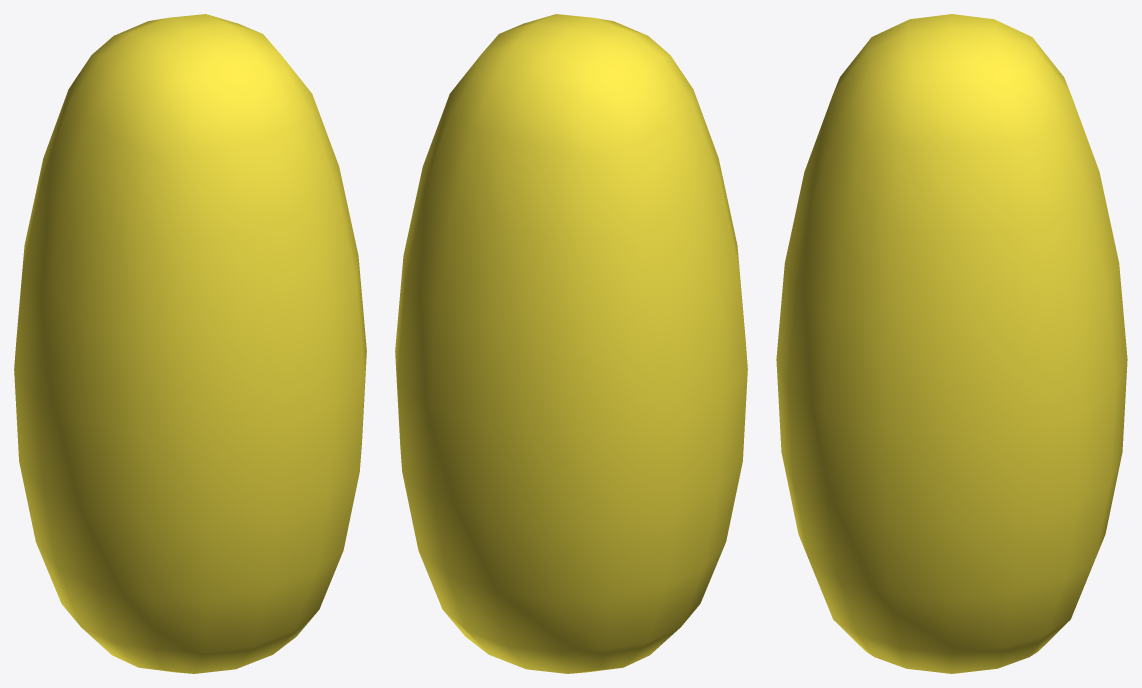
File: timsah_yumurtasi.fbx
3 views of the same model, side by side, from view 1: azimuth 30°, elevation 25°; view 2: azimuth 150°, elevation 25°; view 3: azimuth 270°, elevation 25° (orthographic).
Visible parts, largest first — view 1: timsah_yumurtasi.001; view 2: timsah_yumurtasi.001; view 3: timsah_yumurtasi.001.
Part boxes in pixels (x1,y1,x2,y2): timsah_yumurtasi.001: [14, 14, 366, 673]; timsah_yumurtasi.001: [395, 14, 747, 673]; timsah_yumurtasi.001: [776, 14, 1127, 673].
Bounding box in the file's own units: 27.67 × 54.07 × 27.67.
